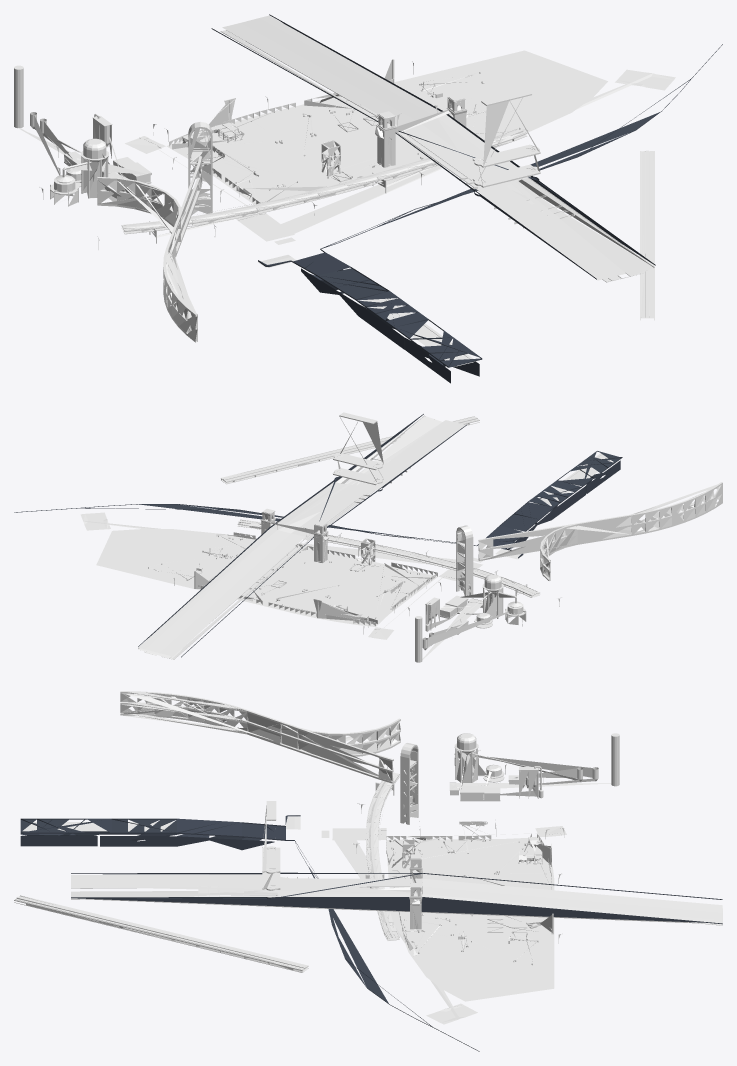
The model's file is street_island2_06.glb.
The picture shows the model from 3 angles, top to bottom: view 1: azimuth 30°, elevation 25°; view 2: azimuth 150°, elevation 25°; view 3: azimuth 270°, elevation 25°; orthographic projection. The views are drawn at different scales.
Visible parts, largest first — view 1: seg_379, seg_383, seg_957, seg_843, seg_433, seg_387, seg_849, seg_1019, seg_931, seg_851, seg_1013, seg_750 (+14 smaller); view 2: seg_379, seg_383, seg_957, seg_843, seg_433, seg_849, seg_1019, seg_387, seg_1013, seg_968, seg_931, seg_750 (+13 smaller); view 3: seg_379, seg_383, seg_957, seg_931, seg_843, seg_433, seg_1009, seg_1019, seg_387, seg_750, seg_800, seg_968 (+11 smaller).
Boxes of the visible parts, bbox=[...] form: seg_379: bbox=[166, 50, 607, 204]; seg_383: bbox=[222, 15, 625, 280]; seg_957: bbox=[97, 156, 202, 342]; seg_843: bbox=[14, 65, 151, 206]; seg_433: bbox=[220, 30, 654, 282]; seg_387: bbox=[238, 69, 675, 241]; seg_849: bbox=[472, 90, 540, 187]; seg_1019: bbox=[356, 291, 482, 367]; seg_931: bbox=[211, 14, 655, 279]; seg_851: bbox=[375, 94, 468, 167]; seg_1013: bbox=[321, 44, 722, 248]; seg_750: bbox=[640, 150, 654, 318]; seg_379: bbox=[96, 529, 437, 626]; seg_383: bbox=[138, 420, 465, 656]; seg_957: bbox=[478, 482, 722, 580]; seg_843: bbox=[415, 574, 526, 662]; seg_433: bbox=[138, 415, 441, 659]; seg_849: bbox=[333, 412, 383, 485]; seg_1019: bbox=[528, 451, 622, 507]; seg_387: bbox=[80, 512, 482, 578]; seg_1013: bbox=[14, 504, 475, 545]; seg_968: bbox=[456, 525, 473, 595]; seg_931: bbox=[138, 414, 467, 657]; seg_750: bbox=[220, 416, 479, 482]; seg_379: bbox=[386, 837, 554, 1001]; seg_383: bbox=[71, 874, 722, 924]; seg_957: bbox=[120, 691, 400, 783]; seg_931: bbox=[71, 872, 722, 924]; seg_843: bbox=[449, 733, 619, 801]; seg_433: bbox=[71, 876, 722, 925]; seg_1009: bbox=[20, 831, 176, 846]; seg_1019: bbox=[20, 818, 176, 833]; seg_387: bbox=[332, 828, 477, 1024]; seg_750: bbox=[14, 895, 308, 970]; seg_800: bbox=[14, 896, 308, 972]; seg_968: bbox=[400, 743, 418, 824].
Size of the model in its own units: 516 by 88.35 by 506.
